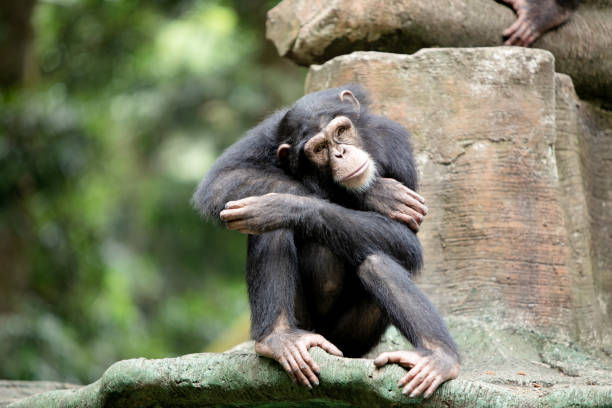chimpanzee: (252, 85, 389, 204)
